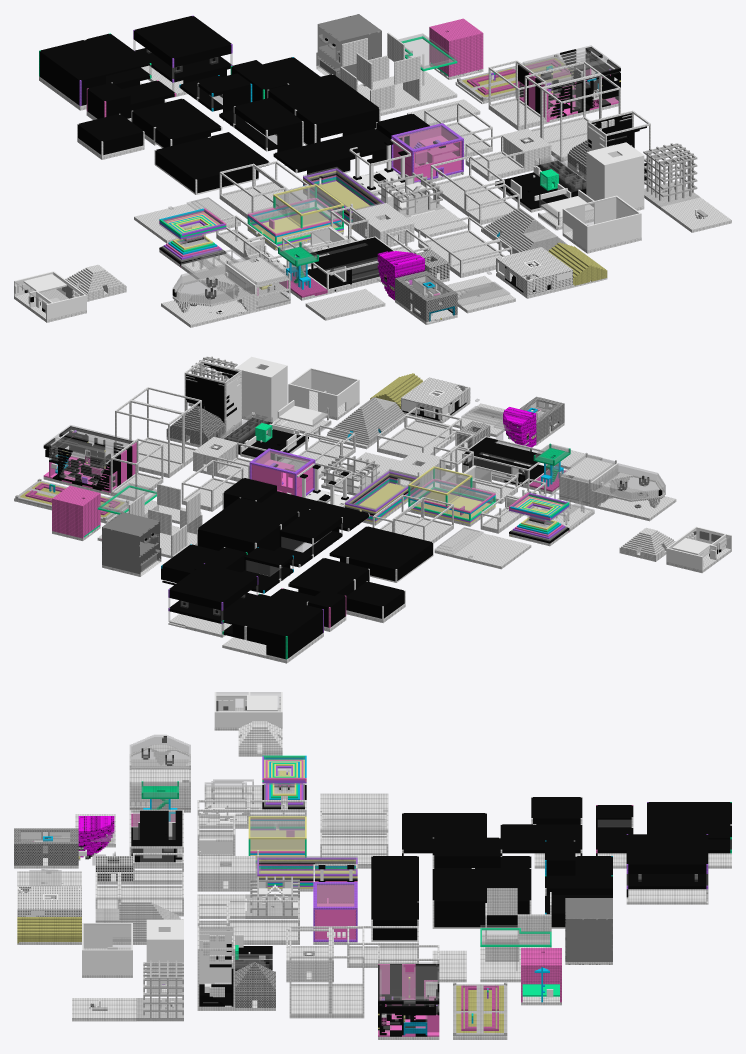
Rendered from Oasis-v1.glb.
3 renders of one model, top to bottom at view 1: azimuth 30°, elevation 25°; view 2: azimuth 150°, elevation 25°; view 3: azimuth 270°, elevation 25°, orthographic. The views are drawn at different scales.
Parts seen in each view (by area): view 1: solid-voxels_69.009, solid-voxels_34.018, solid-voxels_26.018, solid-voxels_70.009, solid-voxels_60.013, solid-voxels_80.007, solid-voxels_48.017, solid-voxels_76.007, solid-voxels_65.010, solid-voxels_32.018, solid-voxels_57.014, glass-voxels_10.017 (+84 smaller); view 2: solid-voxels_69.009, solid-voxels_26.018, solid-voxels_70.009, solid-voxels_77.007, glass-voxels_10.017, solid-voxels_60.013, solid-voxels_80.007, solid-voxels_34.018, solid-voxels_48.017, solid-voxels_37.018, solid-voxels_76.007, solid-voxels_74.007 (+74 smaller); view 3: solid-voxels_69.009, solid-voxels_26.018, solid-voxels_37.018, solid-voxels_77.007, solid-voxels_34.018, solid-voxels_32.018, glass-voxels_10.017, solid-voxels_19.019, solid-voxels_48.017, solid-voxels_65.010, solid-voxels_53.015, solid-voxels_74.007 (+73 smaller).
Boxes of the visible parts, x1,y1,x2,y2 form: solid-voxels_69.009: (133, 15, 232, 97); solid-voxels_34.018: (340, 32, 423, 115); solid-voxels_26.018: (518, 47, 620, 123); solid-voxels_70.009: (39, 39, 125, 110); solid-voxels_60.013: (154, 137, 249, 194); solid-voxels_80.007: (161, 263, 256, 327); solid-voxels_48.017: (562, 195, 641, 253); solid-voxels_76.007: (586, 142, 644, 210); solid-voxels_65.010: (391, 123, 463, 182); solid-voxels_32.018: (301, 236, 394, 294); solid-voxels_57.014: (273, 128, 391, 179); glass-voxels_10.017: (518, 45, 620, 117); solid-voxels_69.009: (168, 563, 258, 637); solid-voxels_26.018: (43, 426, 136, 495); solid-voxels_70.009: (245, 599, 323, 663); solid-voxels_77.007: (102, 512, 161, 576); glass-voxels_10.017: (44, 425, 136, 487); solid-voxels_60.013: (347, 530, 433, 582); solid-voxels_80.007: (590, 463, 676, 521); solid-voxels_34.018: (128, 483, 202, 558); solid-voxels_48.017: (288, 368, 359, 420); solid-voxels_37.018: (184, 361, 241, 435); solid-voxels_76.007: (235, 356, 287, 422); solid-voxels_74.007: (197, 510, 281, 553); solid-voxels_69.009: (626, 834, 708, 904); solid-voxels_26.018: (378, 964, 439, 1039); solid-voxels_37.018: (197, 926, 235, 1010); solid-voxels_77.007: (565, 898, 612, 964); solid-voxels_34.018: (480, 888, 551, 961); solid-voxels_32.018: (129, 809, 183, 868); glass-voxels_10.017: (378, 962, 439, 1034); solid-voxels_19.019: (14, 828, 78, 868); solid-voxels_48.017: (82, 923, 132, 977); solid-voxels_65.010: (313, 882, 357, 944); solid-voxels_53.015: (432, 868, 473, 928); solid-voxels_74.007: (473, 868, 531, 928).
Size of the model in its own units: 229 by 20 by 211.
2 materials, 1 textured.
